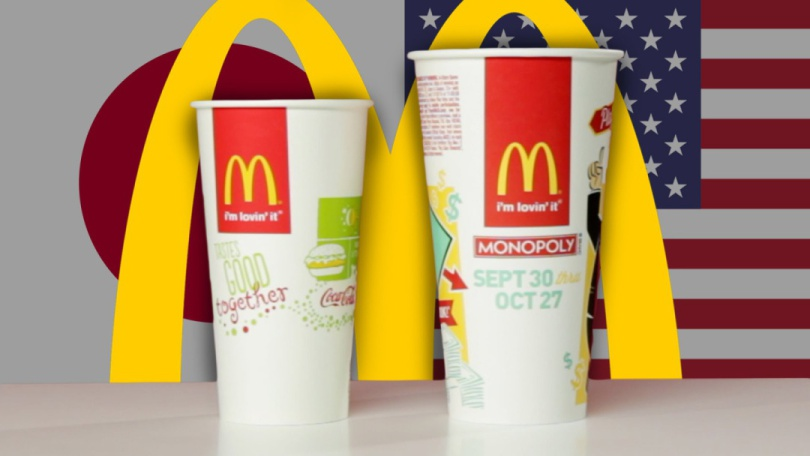mcdonalds: (496, 139, 564, 202), (220, 153, 282, 210)
